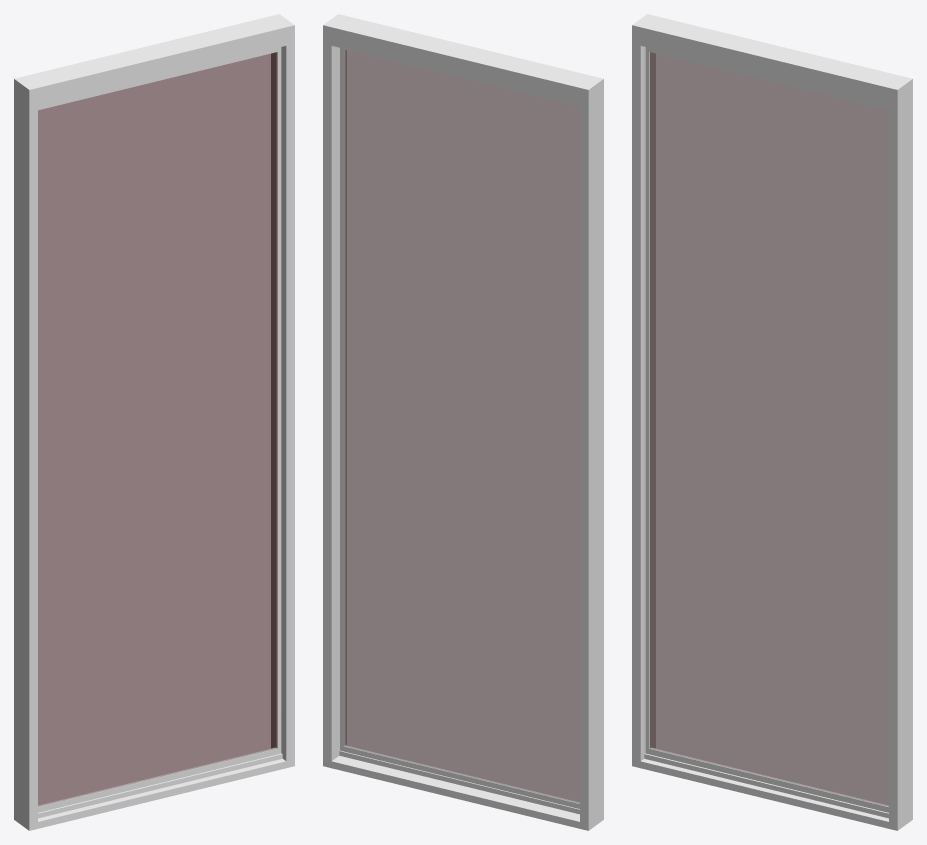
Rendered from Glass Wall 400cm.FBX.
3 renders of one model, left to right at view 1: azimuth 30°, elevation 25°; view 2: azimuth 150°, elevation 25°; view 3: azimuth 330°, elevation 25°, orthographic.
Visible parts, largest first — view 1: Glass wall 400cm; view 2: Glass wall 400cm; view 3: Glass wall 400cm.
Part boxes in pixels (box(x1,y1,x2,y2)): Glass wall 400cm: box(14, 14, 294, 830); Glass wall 400cm: box(323, 14, 603, 830); Glass wall 400cm: box(632, 14, 912, 830).
Size of the model in its own units: 150 by 400 by 15.
